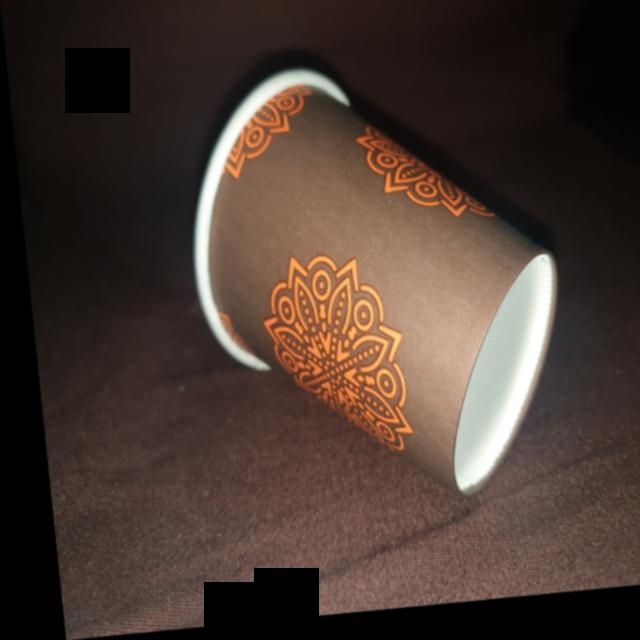cups: (169, 45, 572, 526)
